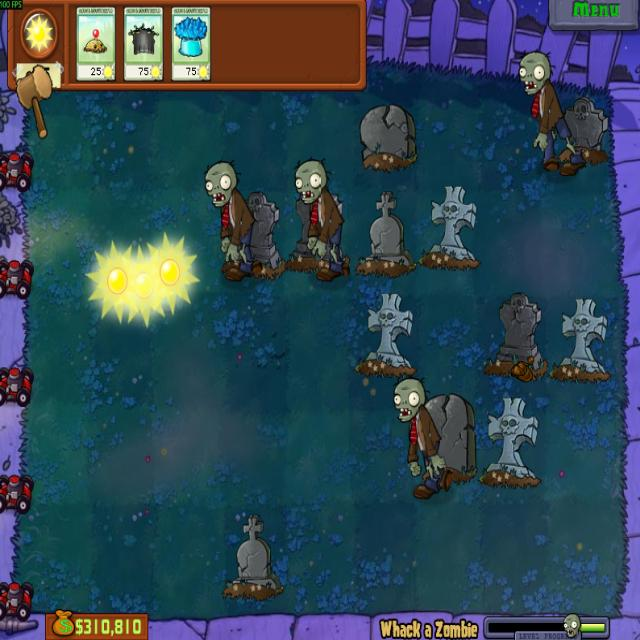grave: (485, 291, 548, 382), (479, 395, 542, 486), (417, 390, 476, 485), (549, 296, 611, 382), (355, 291, 416, 378), (419, 183, 479, 270), (288, 186, 348, 272), (222, 514, 282, 598), (354, 193, 416, 274), (232, 190, 284, 275), (358, 101, 418, 171), (559, 94, 608, 159)
gravebuster: (123, 6, 164, 80)
zombie: (202, 158, 238, 209), (292, 156, 328, 207), (516, 49, 552, 96), (392, 376, 426, 423)
